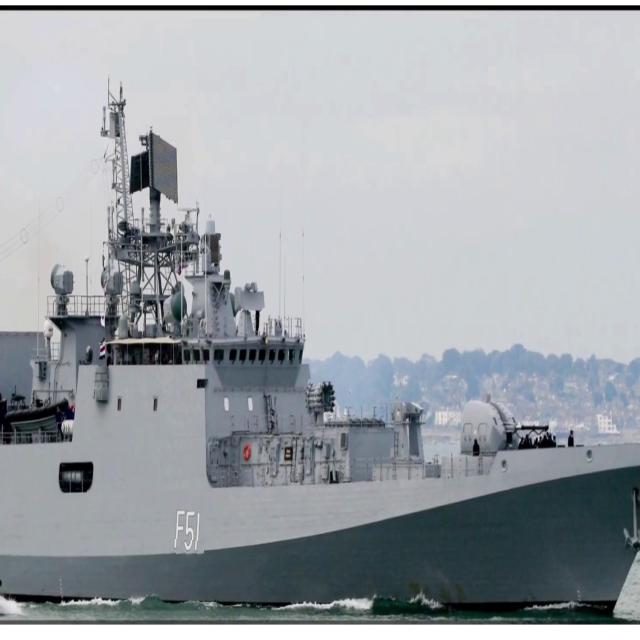OCR: (172, 504, 206, 557)
